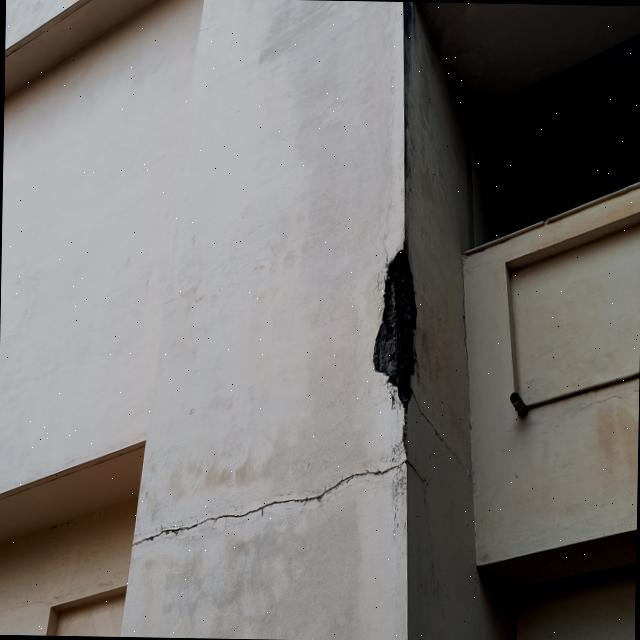crack: (132, 453, 426, 550), (411, 383, 469, 475), (460, 253, 468, 365)
spalling: (373, 247, 416, 410)
